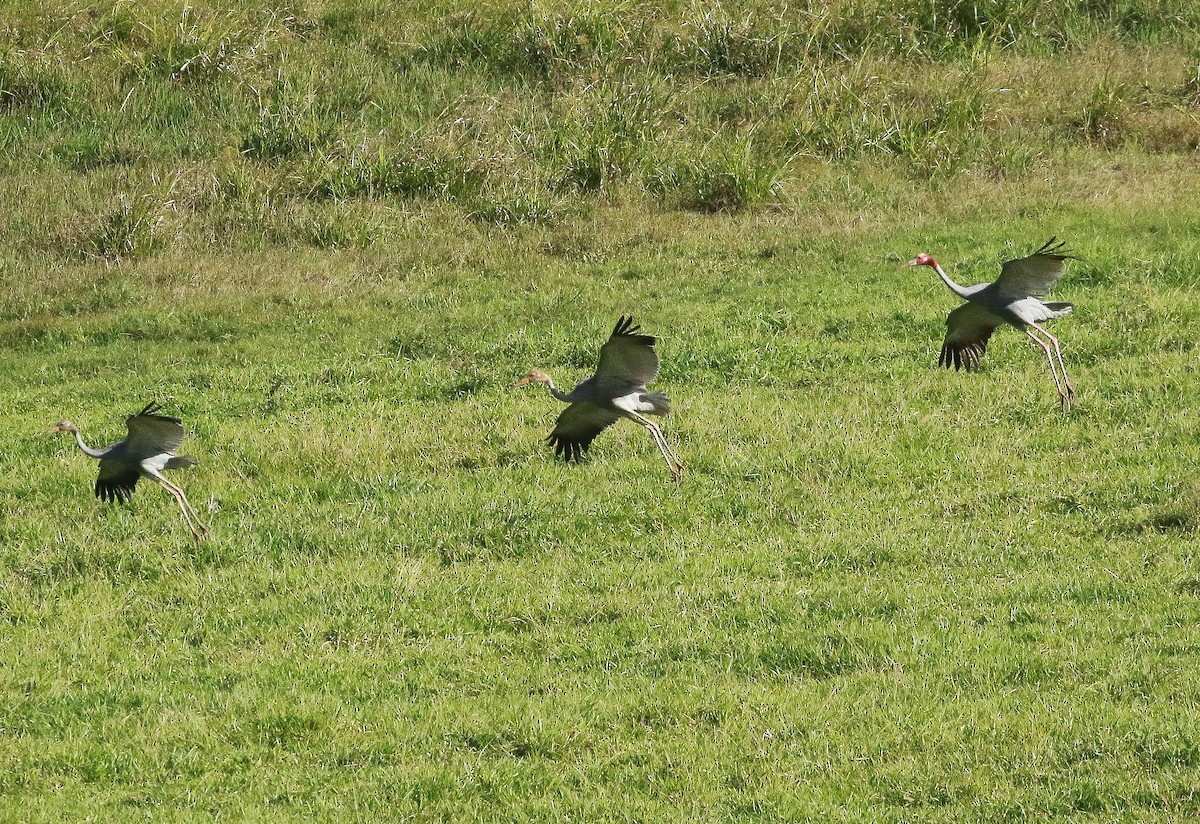crane: (897, 239, 1097, 428), (505, 312, 696, 507), (48, 393, 215, 547)
